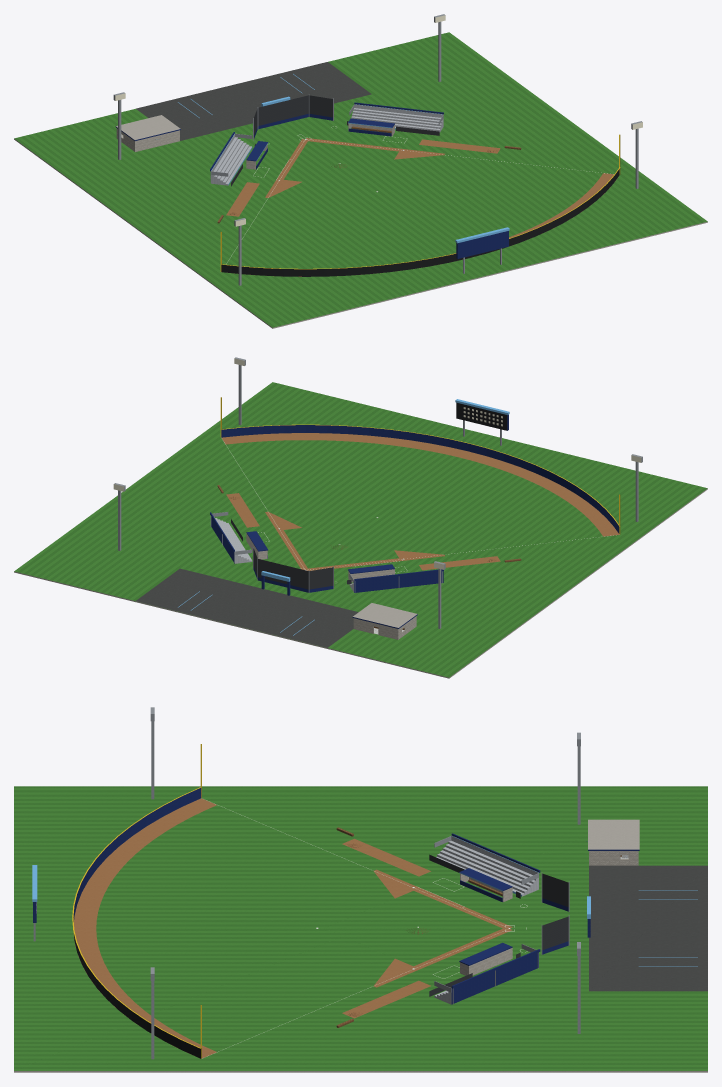
The model's file is ballpark_2.glb.
3 renders of one model, top to bottom at view 1: azimuth 30°, elevation 25°; view 2: azimuth 150°, elevation 25°; view 3: azimuth 270°, elevation 25°, orthographic. The views are drawn at different scales.
Parts seen in each view (by area): view 1: ballpark_2; view 2: ballpark_2; view 3: ballpark_2.
Boxes of the visible parts, x1=… form: ballpark_2: x1=14, y1=14, x2=707, y2=328; ballpark_2: x1=14, y1=357, x2=707, y2=678; ballpark_2: x1=14, y1=707, x2=707, y2=1072.
Size of the model in its own units: 136 by 19.9 by 140.
17 materials, 17 textured.
